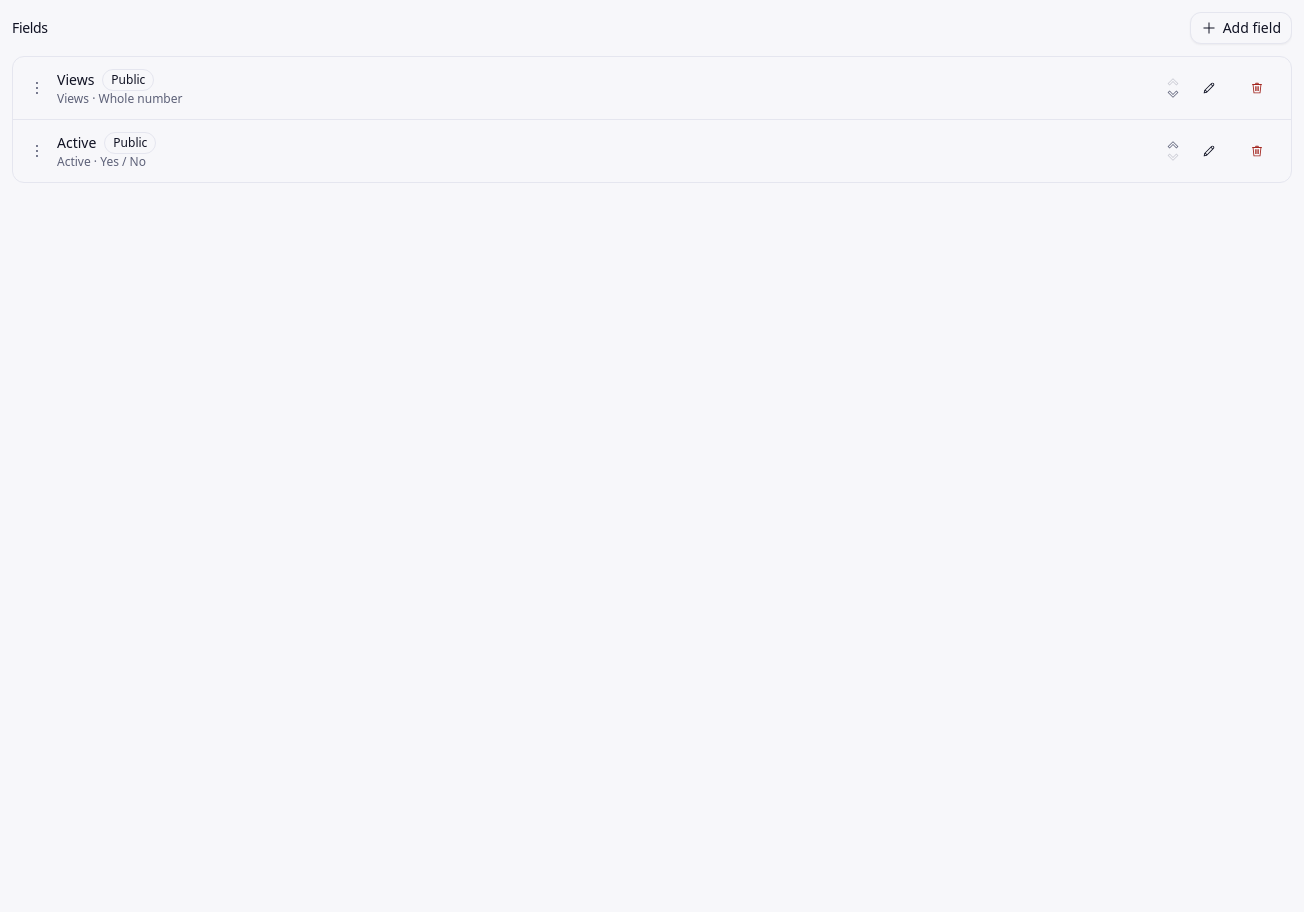
Test case: a field whose type is an alias › opens in the editor with its canonical type already chosen
Click the button named "Edit Views" at point(1209, 88), box x1=1191 y1=70 x2=1227 y2=106
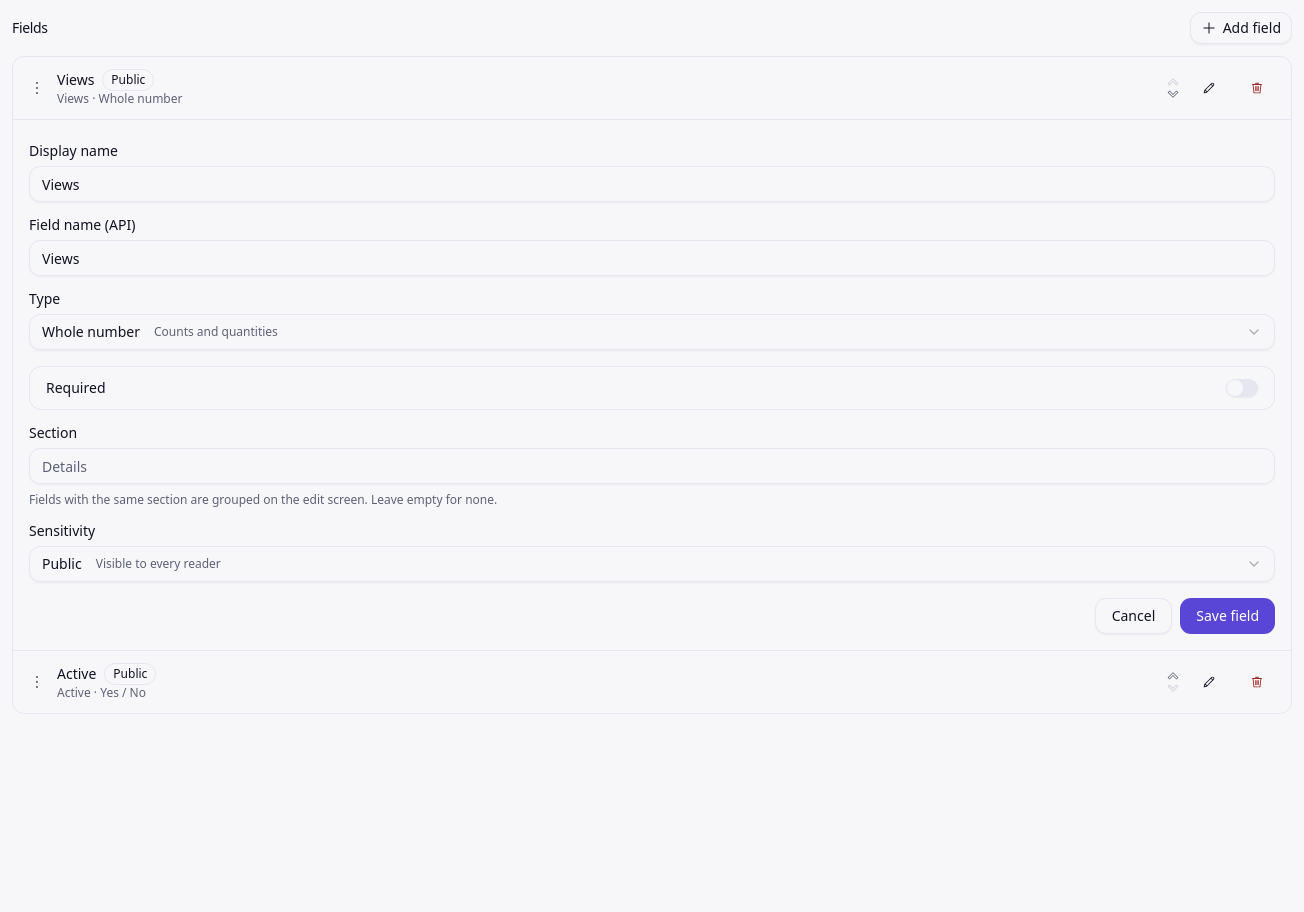
Expected: the dropdown named "Type" shows "Whole number", x1=29 y1=314 x2=1275 y2=350
